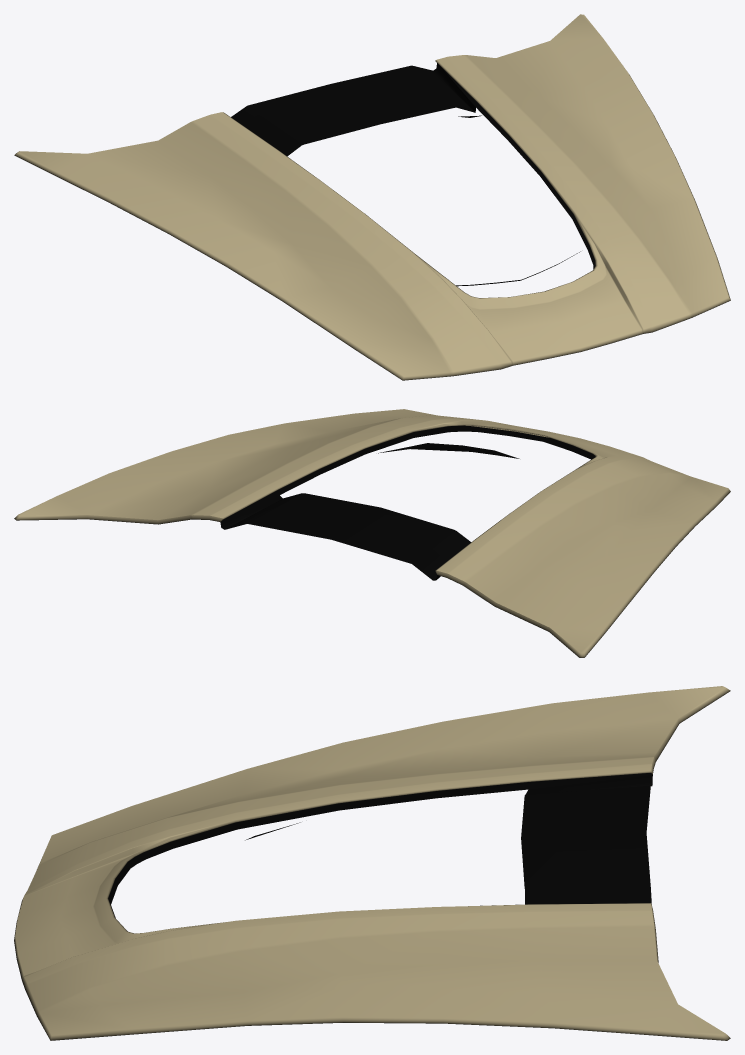
Rendered from Zr1_Hood_04_Duco.fbx.
3 renders of one model, top to bottom at view 1: azimuth 30°, elevation 25°; view 2: azimuth 150°, elevation 25°; view 3: azimuth 270°, elevation 25°, orthographic. The views are drawn at different scales.
Visible parts, largest first — view 1: Zr1_Hood_04_Duco; view 2: Zr1_Hood_04_Duco; view 3: Zr1_Hood_04_Duco.
Boxes of the visible parts, x1=… form: Zr1_Hood_04_Duco: x1=14, y1=14, x2=730, y2=380; Zr1_Hood_04_Duco: x1=14, y1=409, x2=730, y2=657; Zr1_Hood_04_Duco: x1=14, y1=686, x2=730, y2=1040.
Bounding box in the file's own units: 153 × 22.31 × 131.
